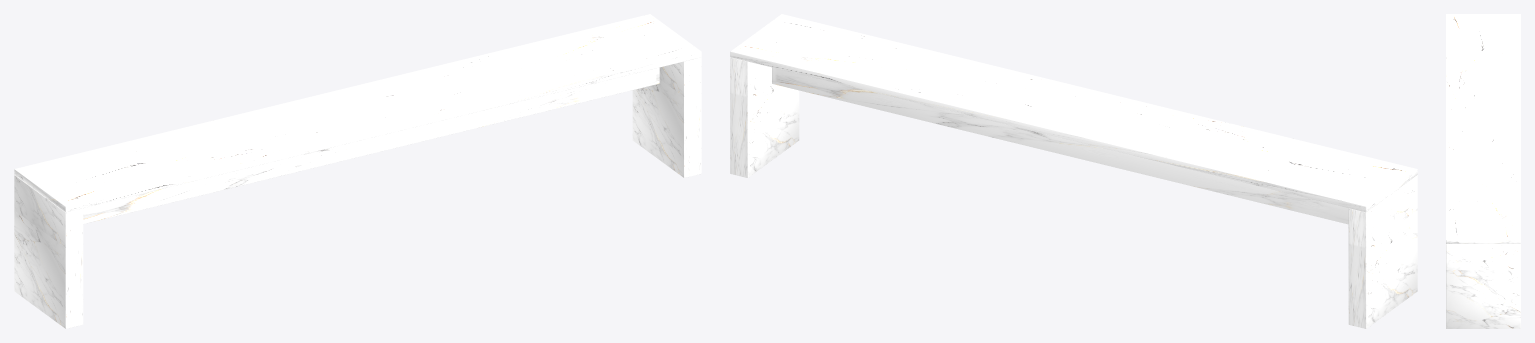
Rendered from makeuptable.gltf.
3 views of the same model, side by side, from view 1: azimuth 30°, elevation 25°; view 2: azimuth 150°, elevation 25°; view 3: azimuth 270°, elevation 25° (orthographic). The views are drawn at different scales.
Parts seen in each view (by area): view 1: Object_18; view 2: Object_18; view 3: Object_18.
Part boxes in pixels (x1,y1,x2,y2): Object_18: [14, 14, 701, 328]; Object_18: [730, 14, 1417, 328]; Object_18: [1446, 14, 1520, 328].
Bounding box in the file's own units: 8.01 × 1.47 × 1.12.
1 material, 1 textured.
